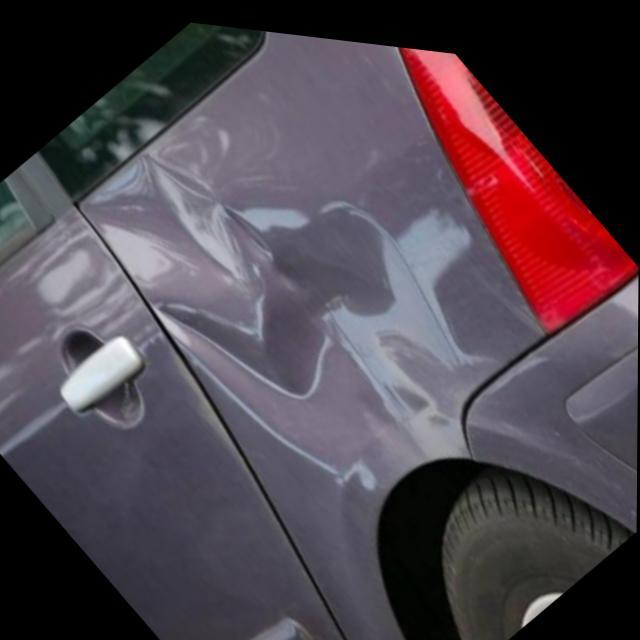dent: (93, 127, 477, 493)
